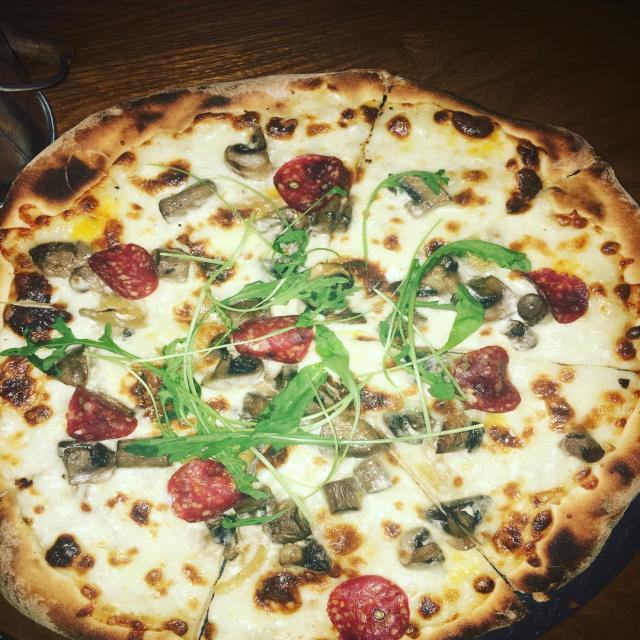mushrooms: (266, 495, 343, 573), (255, 368, 350, 429), (29, 238, 109, 291), (433, 487, 496, 549), (321, 459, 390, 512), (54, 435, 120, 486), (457, 271, 527, 318), (222, 124, 277, 179), (315, 410, 383, 454), (504, 293, 559, 345), (392, 168, 453, 213), (438, 411, 497, 454), (393, 525, 444, 573), (200, 346, 260, 385), (160, 179, 216, 219), (390, 409, 443, 451), (416, 261, 463, 306), (562, 426, 606, 468), (40, 348, 93, 381), (154, 242, 192, 278)
pepperoni: (448, 343, 533, 420), (270, 151, 356, 215), (329, 575, 410, 640), (91, 245, 180, 302), (60, 378, 140, 440), (168, 458, 246, 516), (520, 262, 587, 323)
pizza: (0, 70, 640, 640)
